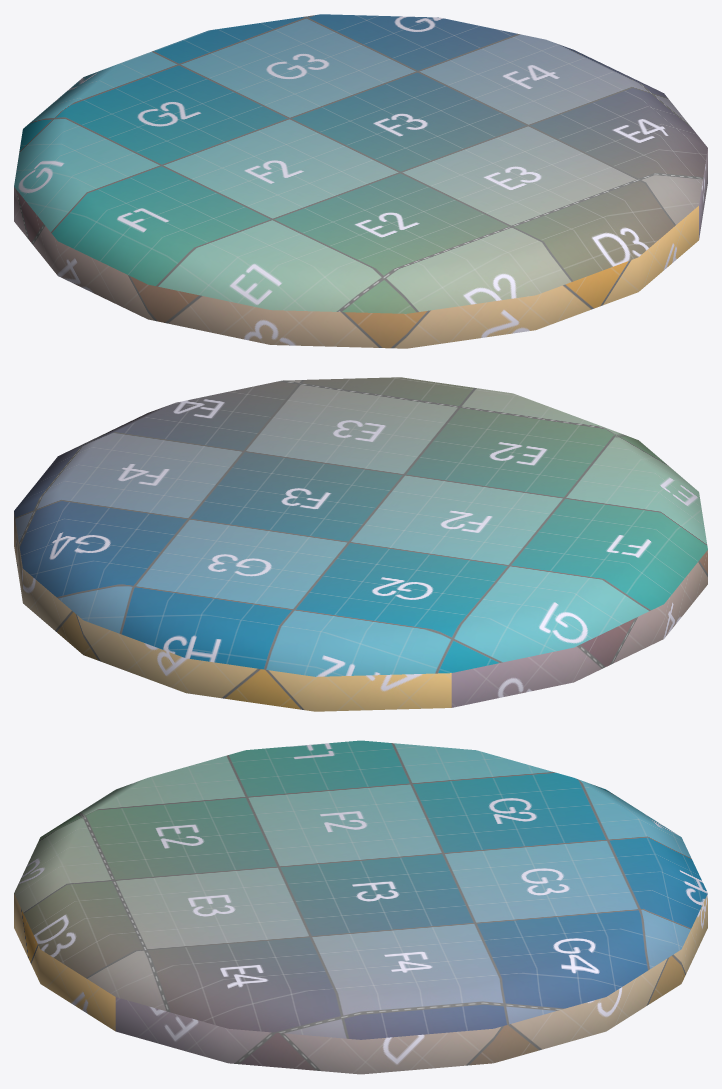
The model's file is RoundVaseLid_LOW.fbx.
The picture shows the model from 3 angles, top to bottom: view 1: azimuth 30°, elevation 25°; view 2: azimuth 150°, elevation 25°; view 3: azimuth 270°, elevation 25°; orthographic projection.
Parts seen in each view (by area): view 1: RoundVaseLid_LOW.001; view 2: RoundVaseLid_LOW.001; view 3: RoundVaseLid_LOW.001.
Part boxes in pixels (<box>): RoundVaseLid_LOW.001: <box>14,14,707,348</box>; RoundVaseLid_LOW.001: <box>14,377,707,711</box>; RoundVaseLid_LOW.001: <box>14,740,707,1074</box>.
Size of the model in its own units: 0.4389 by 0.0418 by 0.4389.
1 material, 1 textured.
